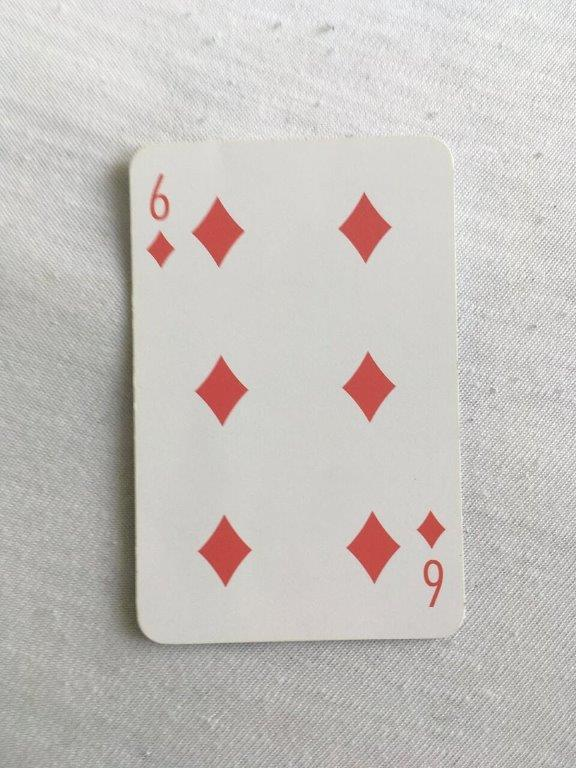6D: (125, 132, 468, 648)
